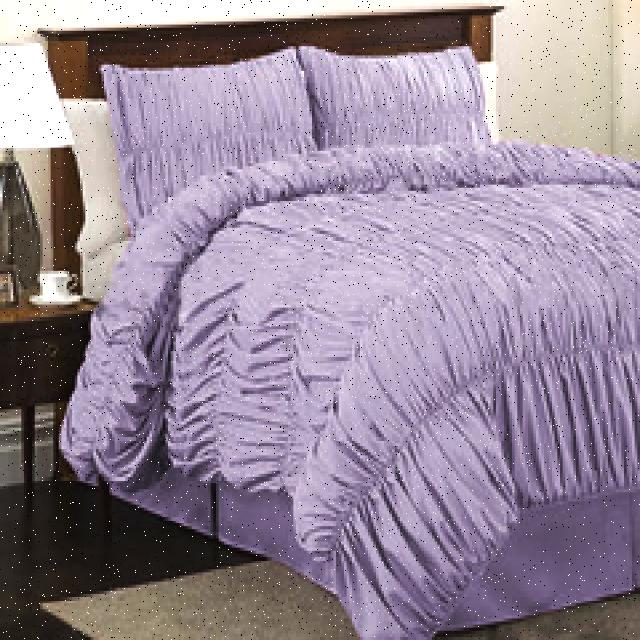bed: (51, 27, 640, 609)
